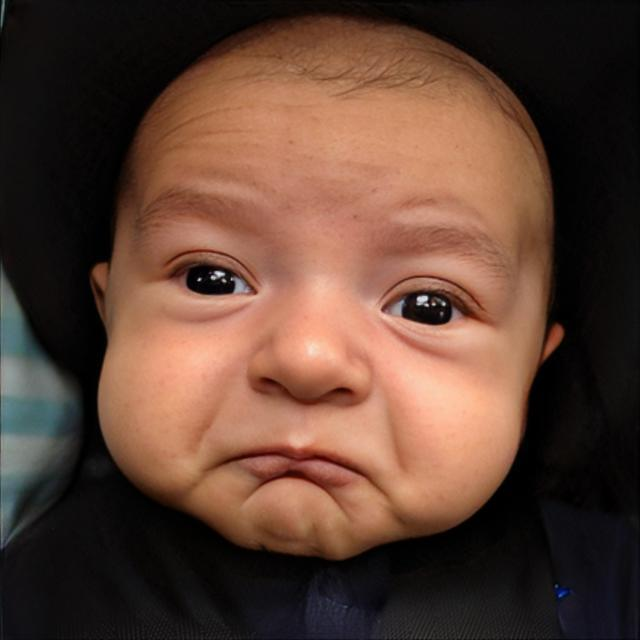sad: (106, 48, 536, 570)
